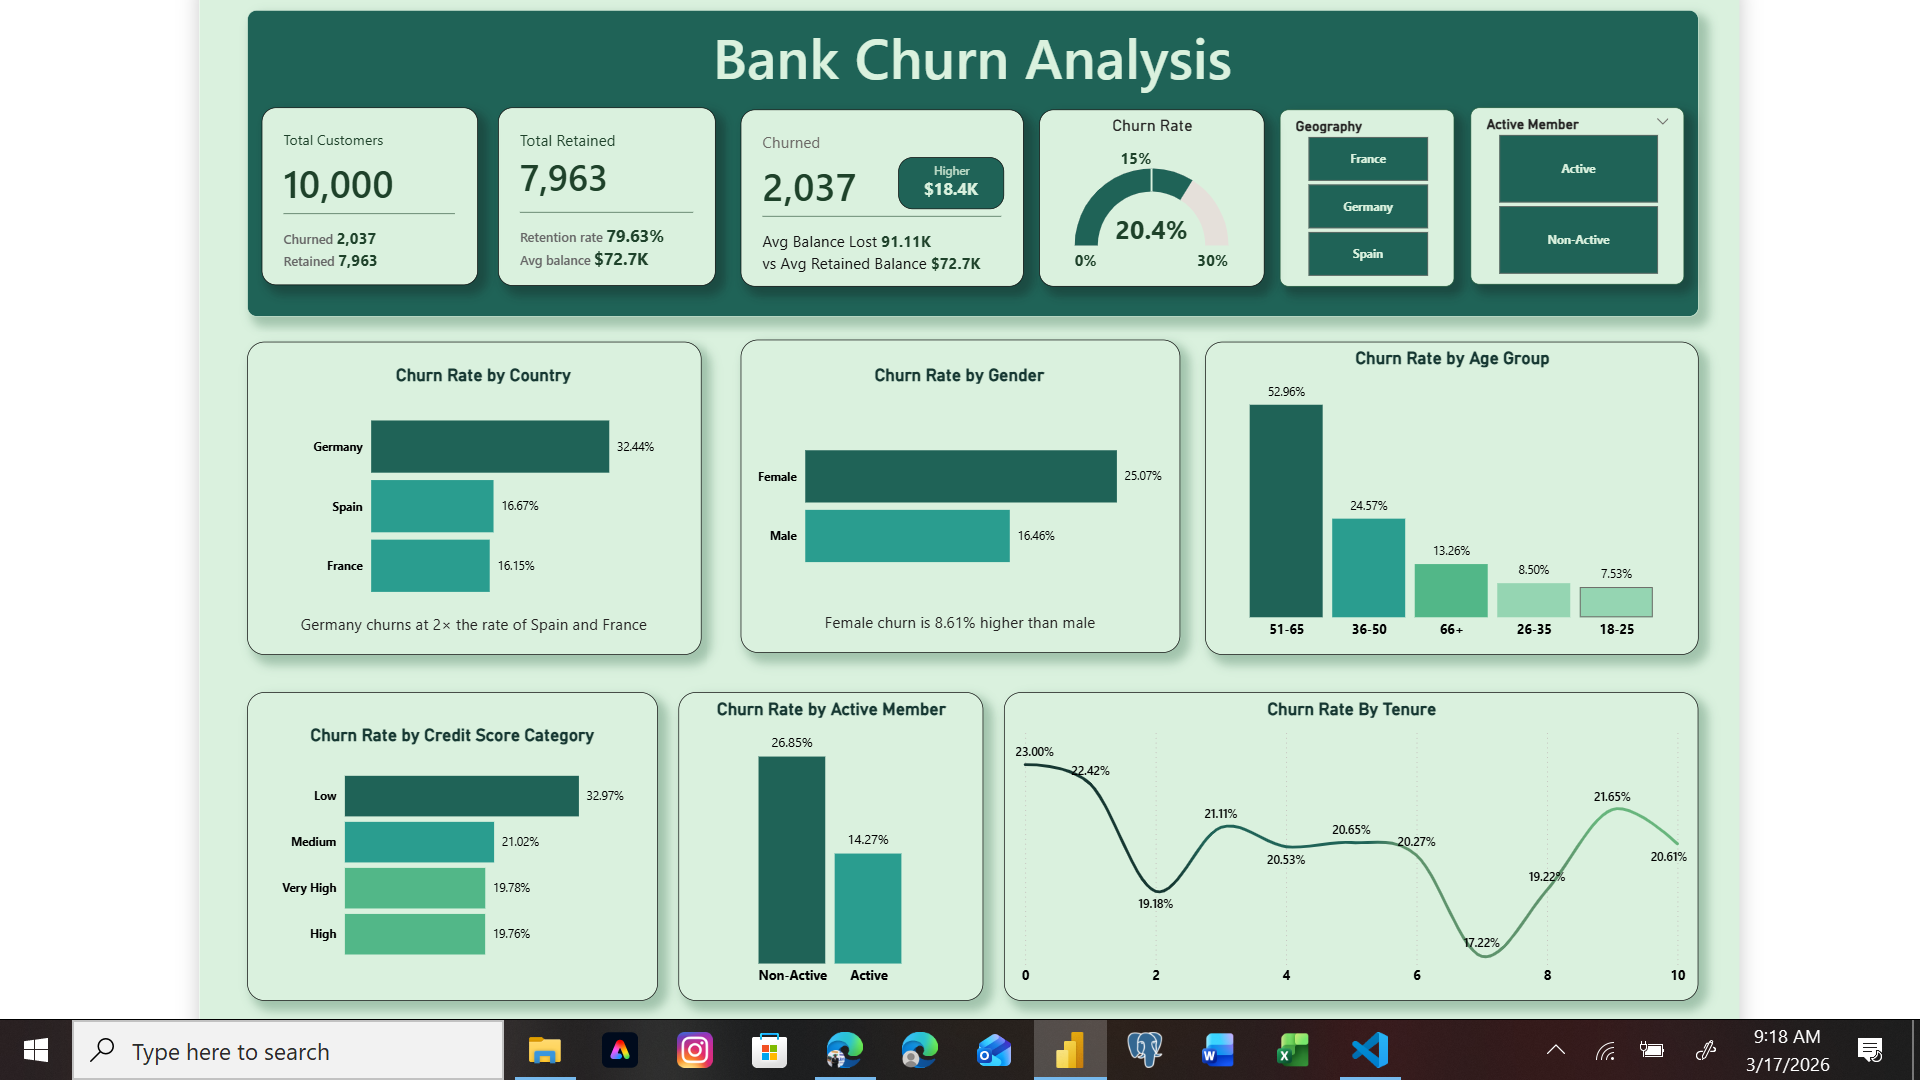

What the dashboard file says about the page in this screenshot:
{"tool":"powerbi","page":{"name":"Page 1","canvas":[1600,1100],"ordinal":0},"visuals":[{"type":"textbox","box":[49.5,734.5,426.5,321],"z":0},{"type":"textbox","box":[562.9,369.1,456.7,325.3],"z":1000},{"type":"textbox","box":[49.5,370.5,471.7,325.3],"z":2000},{"type":"textbox","box":[49.5,25.8,1507.9,318.8],"z":3000},{"type":"clusteredBarChart","title":"Churn Rate by Country","fields":{"Category":["Bank Customers.Geography"],"Y":["DAX.Churn Rate %"]},"box":[112,394.2,366.2,267.1],"z":4000},{"type":"clusteredBarChart","title":"Churn Rate by Gender","fields":{"Category":["Bank Customers.Gender"],"Y":["DAX.Churn Rate %"]},"box":[573.7,394.9,433,267.1],"z":5000},{"type":"clusteredBarChart","title":"Churn Rate by Credit Score Category","fields":{"Category":["Bank Customers.Credit Score"],"Y":["DAX.Churn Rate %"]},"box":[79.7,769,366.2,262.8],"z":6000},{"type":"clusteredColumnChart","title":"Churn Rate by Age Group","fields":{"Y":["DAX.Churn Rate %"],"Category":["Bank Customers.Age Group"]},"box":[1044.7,370.5,512.7,325.3],"z":7000},{"type":"lineChart","title":"Churn Rate By Tenure","fields":{"Category":["Bank Customers.Tenure"],"Y":["DAX.Churn Rate %"]},"box":[835.8,734.5,721.6,321],"z":8000},{"type":"cardVisual","fields":{"Data":["DAX.Total Retained"]},"box":[310.2,126.2,226.2,185],"z":9000},{"type":"slicer","fields":{"Values":["Bank Customers.Geography"]},"box":[1122.3,128.9,181.5,183.9],"z":10000},{"type":"slicer","fields":{"Values":["Bank Customers.Active Member"]},"box":[1321.3,127.9,222.1,183.9],"z":11000},{"type":"cardVisual","fields":{"Data":["DAX.Total Customers"]},"box":[64.9,126.7,224.4,184.4],"z":12000},{"type":"cardVisual","fields":{"Data":["DAX.Churned"]},"box":[563,128.8,294,184],"z":13000},{"type":"card","title":"Higher","fields":{"Values":["DAX.Balance Gap"]},"box":[725.9,178.8,109.9,53.9],"z":14000},{"type":"gauge","title":"Churn Rate","fields":{"Y":["DAX.Churn Rate %"]},"box":[871.6,128.9,234,183.9],"z":15000},{"type":"clusteredColumnChart","title":"Churn Rate by Active Member","fields":{"Category":["Bank Customers.Active Member"],"Y":["DAX.Churn Rate %"]},"box":[497.6,734.5,316.7,321],"z":16000}]}

Visuals, with their boxes in screenshot pixels (x1, y1, x2, y2):
textbox: bbox=[238, 691, 651, 1002]
textbox: bbox=[735, 337, 1177, 652]
textbox: bbox=[238, 339, 695, 654]
textbox: bbox=[238, 5, 1698, 314]
"Churn Rate by Country" clusteredBarChart: bbox=[298, 362, 653, 620]
"Churn Rate by Gender" clusteredBarChart: bbox=[745, 362, 1165, 621]
"Churn Rate by Credit Score Category" clusteredBarChart: bbox=[267, 725, 622, 979]
"Churn Rate by Age Group" clusteredColumnChart: bbox=[1202, 339, 1698, 654]
"Churn Rate By Tenure" lineChart: bbox=[999, 691, 1698, 1002]
cardVisual - DAX.Total Retained: bbox=[490, 102, 709, 281]
slicer - Bank Customers.Geography: bbox=[1277, 105, 1452, 283]
slicer - Bank Customers.Active Member: bbox=[1469, 104, 1684, 282]
cardVisual - DAX.Total Customers: bbox=[253, 103, 470, 281]
cardVisual - DAX.Churned: bbox=[735, 105, 1020, 283]
"Higher" card: bbox=[893, 153, 999, 205]
"Churn Rate" gauge: bbox=[1034, 105, 1260, 283]
"Churn Rate by Active Member" clusteredColumnChart: bbox=[672, 691, 978, 1002]
